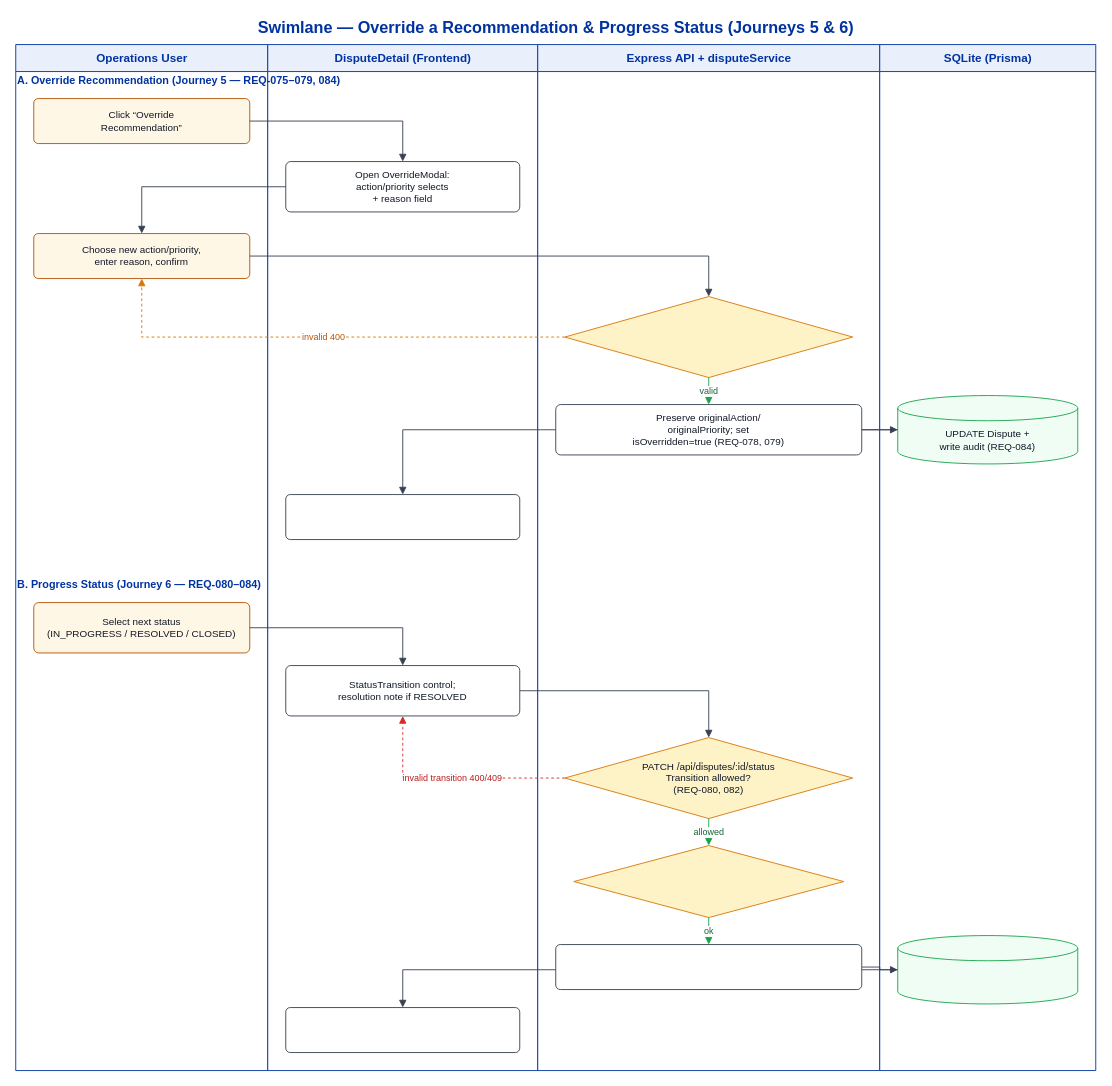
Some shapes in this 1112 by 1086 pixel diagram are drawn without their labels. Each missing label, with the centre of its shape:
"If RESOLVED: require note ≥ 10 chars (REQ-081)" belongs at pixel 708 881.
"INSERT StatusTransition; CLOSED is immutable (REQ-083)" belongs at pixel 987 969.
"POST /api/disputes/:id/override Validate reason 10–300 & ≥1 field (REQ-077)" belongs at pixel 708 337.
"Show manual-override indicator on detail (REQ-079)" belongs at pixel 402 517.
"Update status; write StatusTransition row (REQ-084)" belongs at pixel 708 967.
"Updated status reflected on detail view" belongs at pixel 402 1030.
